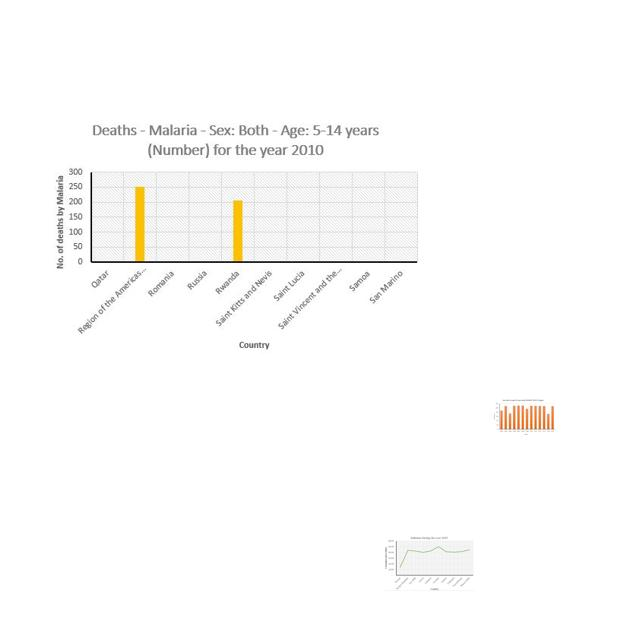Graph: (48, 117, 424, 357), (384, 536, 475, 591), (491, 398, 558, 437)
